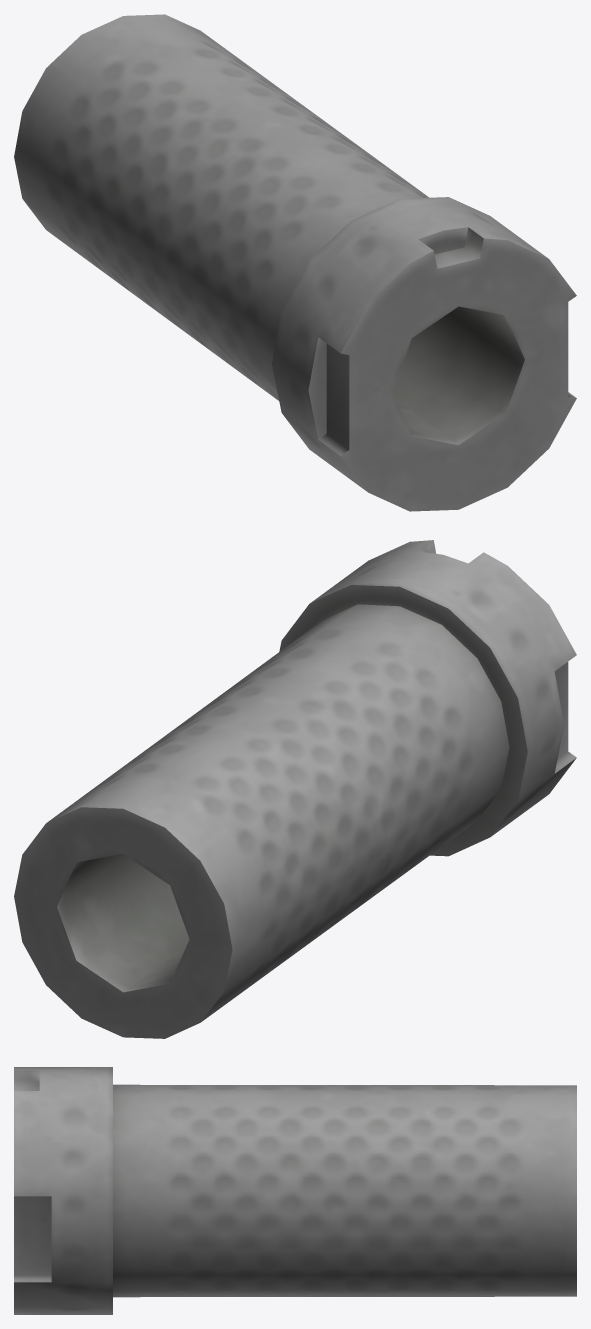
The model's file is IG_Acc_Muzzle_AR_DIS_1.fbx.
The picture shows the model from 3 angles, top to bottom: view 1: azimuth 30°, elevation 25°; view 2: azimuth 150°, elevation 25°; view 3: azimuth 270°, elevation 25°; orthographic projection. The views are drawn at different scales.
Parts seen in each view (by area): view 1: Muzzle_AR_DIS_1; view 2: Muzzle_AR_DIS_1; view 3: Muzzle_AR_DIS_1.
Part boxes in pixels (x1=…): Muzzle_AR_DIS_1: x1=14, y1=14, x2=576, y2=511; Muzzle_AR_DIS_1: x1=14, y1=540, x2=576, y2=1038; Muzzle_AR_DIS_1: x1=14, y1=1067, x2=576, y2=1314.
Bounding box in the file's own units: 0.0734 × 0.0734 × 0.1667.
